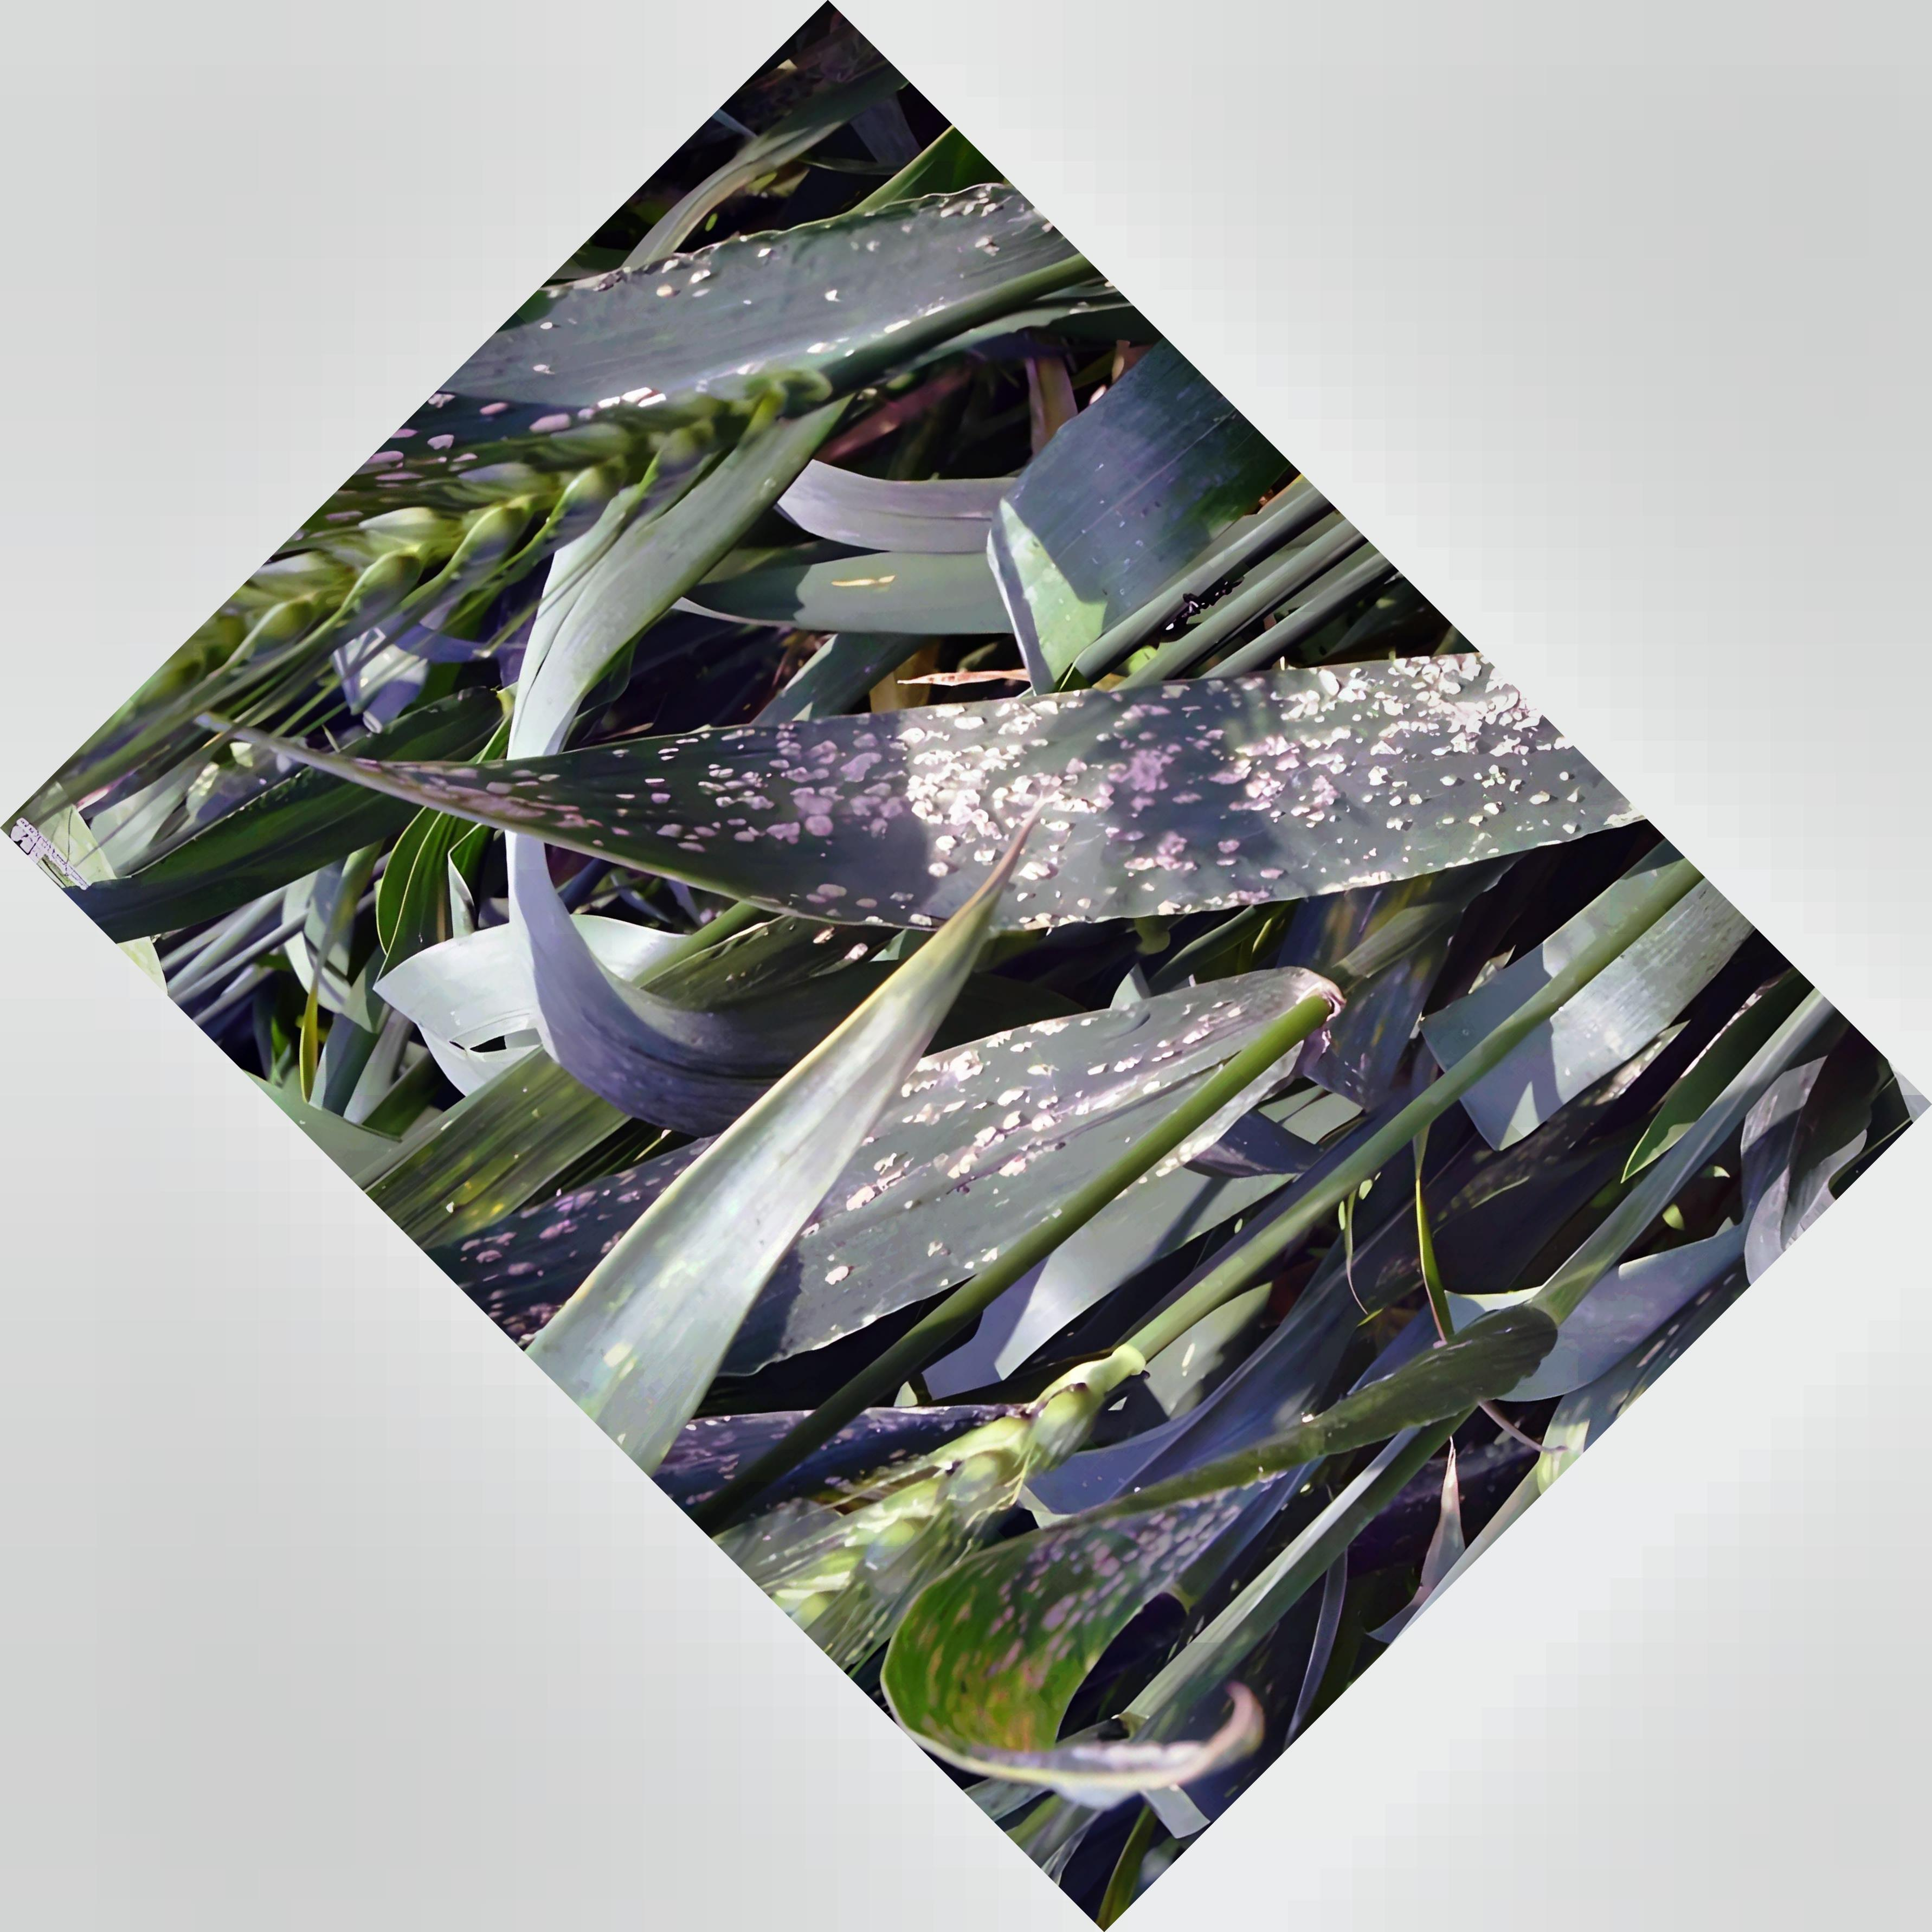Powdery Mildew: (630, 642, 1573, 918), (798, 978, 1265, 1261)
